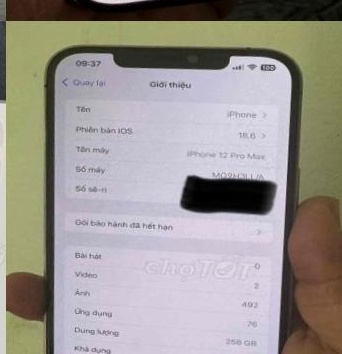screen_defect: (163, 152, 296, 236)
